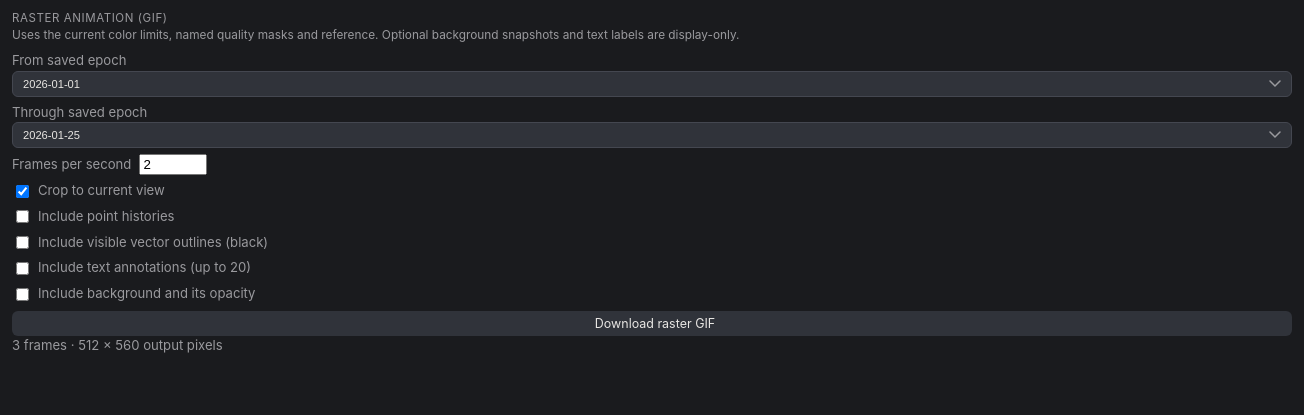
Test case: vector outline limits › names the layers when their vertices together exceed 5,000
Expected: the button "Download raster GIF" is enabled, [12,311,1292,336]
Step 1. Click the checkbox named "Include vector outlines in GIF" → (22, 243), box [16,236,29,249]
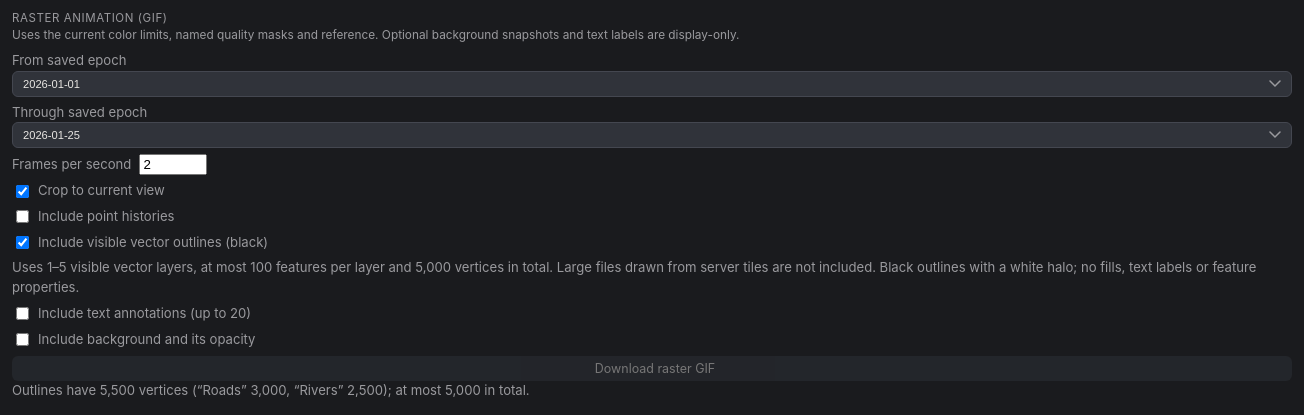
Expected: the message shows "Outlines have 5,500 vertices (“Roads” 3,000, “Rivers” 2,500); at most 5,000 in total.", [12,382,530,398]
